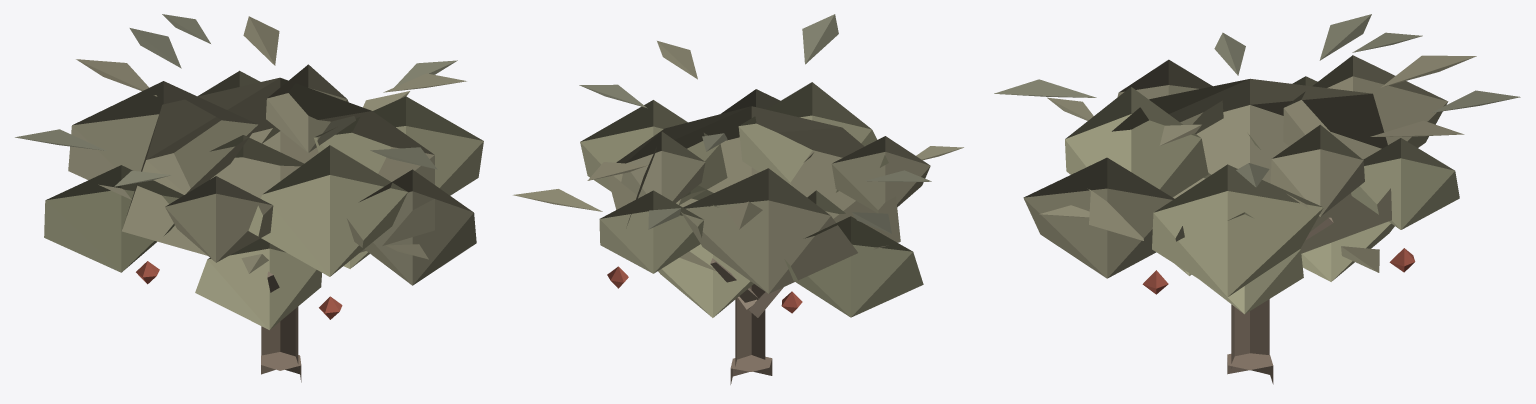
The model's file is nong.sang@fruiting__winter.glb.
The picture shows the model from 3 angles, left to right: view 1: azimuth 30°, elevation 25°; view 2: azimuth 150°, elevation 25°; view 3: azimuth 270°, elevation 25°; orthographic projection. The views are drawn at different scales.
Parts seen in each view (by area): view 1: nong.sang@fruiting__winter; view 2: nong.sang@fruiting__winter; view 3: nong.sang@fruiting__winter.
Boxes of the visible parts, left/top/right/bottom form: nong.sang@fruiting__winter: left=15, top=14, right=483, bottom=382; nong.sang@fruiting__winter: left=513, top=14, right=963, bottom=384; nong.sang@fruiting__winter: left=994, top=14, right=1520, bottom=384.
Size of the model in its own units: 8.5 by 6.33 by 9.27.
